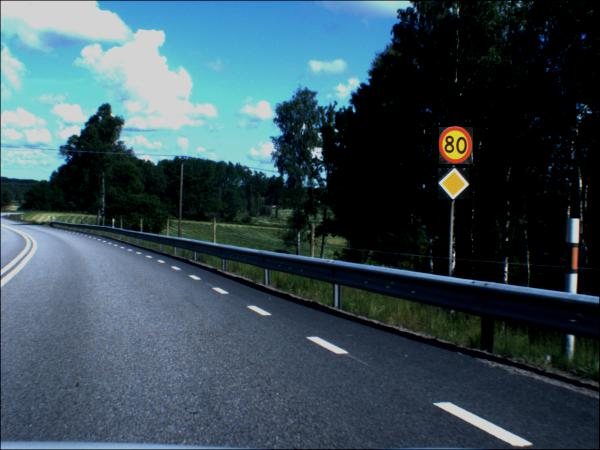80_SIGN: (440, 128, 475, 166)
PRIORITY_ROAD: (439, 169, 471, 201)
